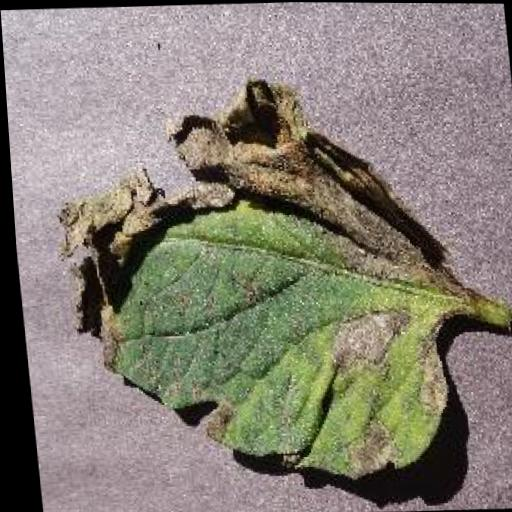Early Blight: (38, 71, 456, 492)
